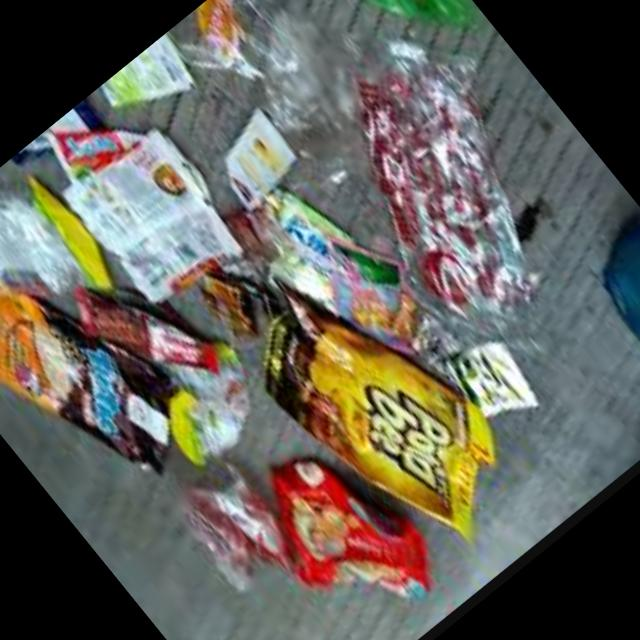KemasanPlastik: (278, 13, 632, 390), (219, 233, 546, 585), (0, 237, 221, 529), (35, 87, 262, 326), (248, 429, 457, 640)
